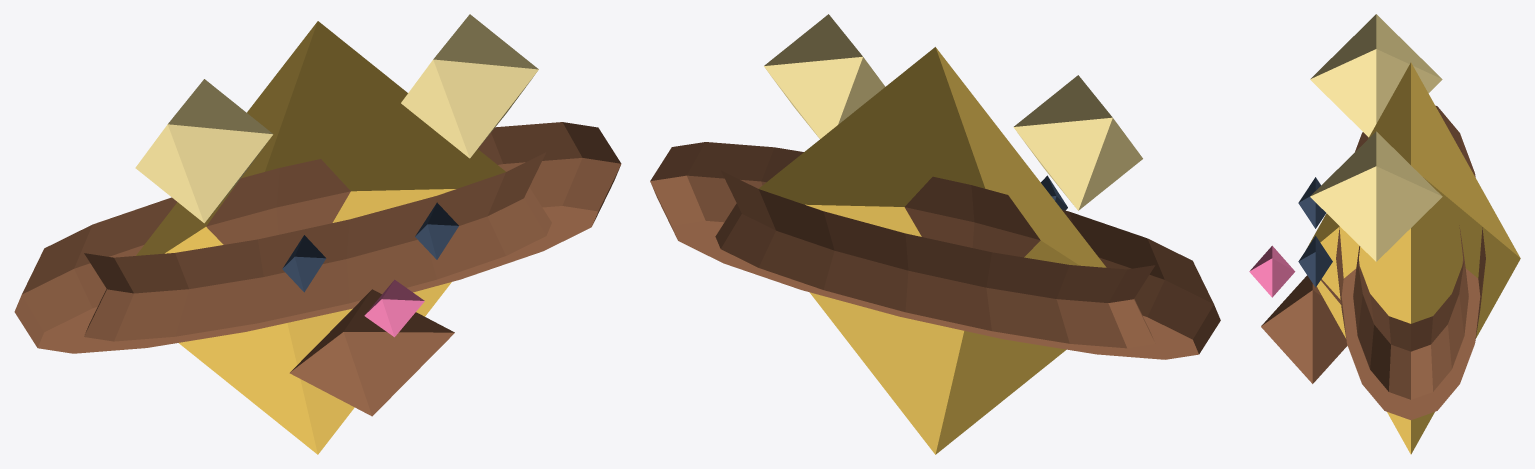
Rendered from minglora_royal_lion.gltf.
3 views of the same model, side by side, from view 1: azimuth 30°, elevation 25°; view 2: azimuth 150°, elevation 25°; view 3: azimuth 270°, elevation 25° (orthographic). The views are drawn at different scales.
Parts seen in each view (by area): view 1: minglora_royal_lion_part_7, minglora_royal_lion_part_0, minglora_royal_lion_part_1, minglora_royal_lion_part_2, minglora_royal_lion_part_3, minglora_royal_lion_part_6, minglora_royal_lion_part_4, minglora_royal_lion_part_5; view 2: minglora_royal_lion_part_7, minglora_royal_lion_part_0, minglora_royal_lion_part_1, minglora_royal_lion_part_2; view 3: minglora_royal_lion_part_0, minglora_royal_lion_part_7, minglora_royal_lion_part_2, minglora_royal_lion_part_1, minglora_royal_lion_part_3, minglora_royal_lion_part_6, minglora_royal_lion_part_5, minglora_royal_lion_part_4.
Boxes of the visible parts, <box> form: minglora_royal_lion_part_7: <box>14,122,621,353</box>; minglora_royal_lion_part_0: <box>136,21,505,454</box>; minglora_royal_lion_part_1: <box>135,79,273,223</box>; minglora_royal_lion_part_2: <box>401,14,538,158</box>; minglora_royal_lion_part_3: <box>289,289,454,416</box>; minglora_royal_lion_part_6: <box>364,279,424,337</box>; minglora_royal_lion_part_4: <box>282,235,326,292</box>; minglora_royal_lion_part_5: <box>415,202,458,259</box>; minglora_royal_lion_part_7: <box>650,142,1220,359</box>; minglora_royal_lion_part_0: <box>758,47,1106,454</box>; minglora_royal_lion_part_1: <box>1013,75,1142,210</box>; minglora_royal_lion_part_2: <box>764,14,885,138</box>; minglora_royal_lion_part_0: <box>1307,62,1520,454</box>; minglora_royal_lion_part_7: <box>1336,105,1485,420</box>; minglora_royal_lion_part_2: <box>1310,131,1442,261</box>; minglora_royal_lion_part_1: <box>1310,14,1442,137</box>; minglora_royal_lion_part_3: <box>1261,275,1347,383</box>; minglora_royal_lion_part_6: <box>1249,245,1295,297</box>; minglora_royal_lion_part_5: <box>1298,235,1332,287</box>; minglora_royal_lion_part_4: <box>1298,177,1325,228</box>.
Size of the model in its own units: 2.19 by 1.5 by 0.94.
